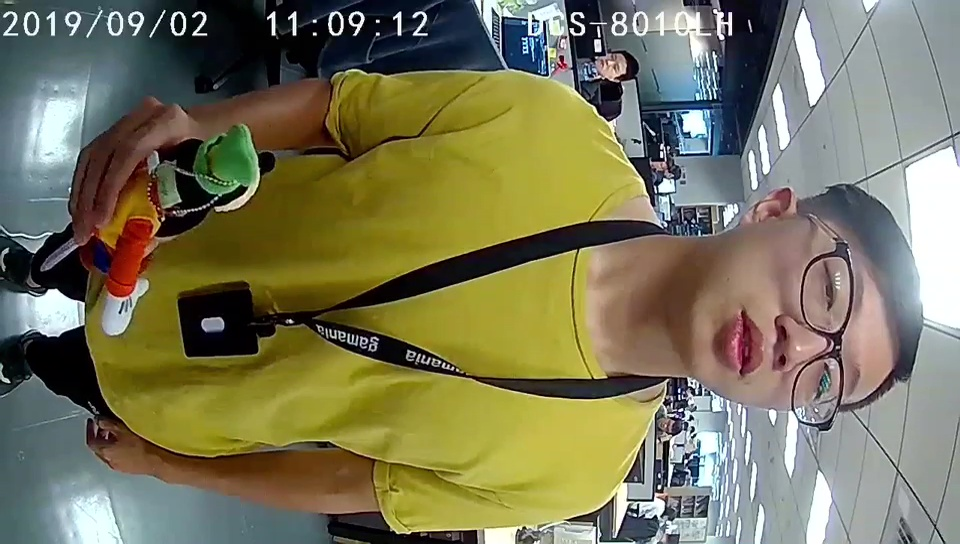goofy: (102, 124, 258, 337)
